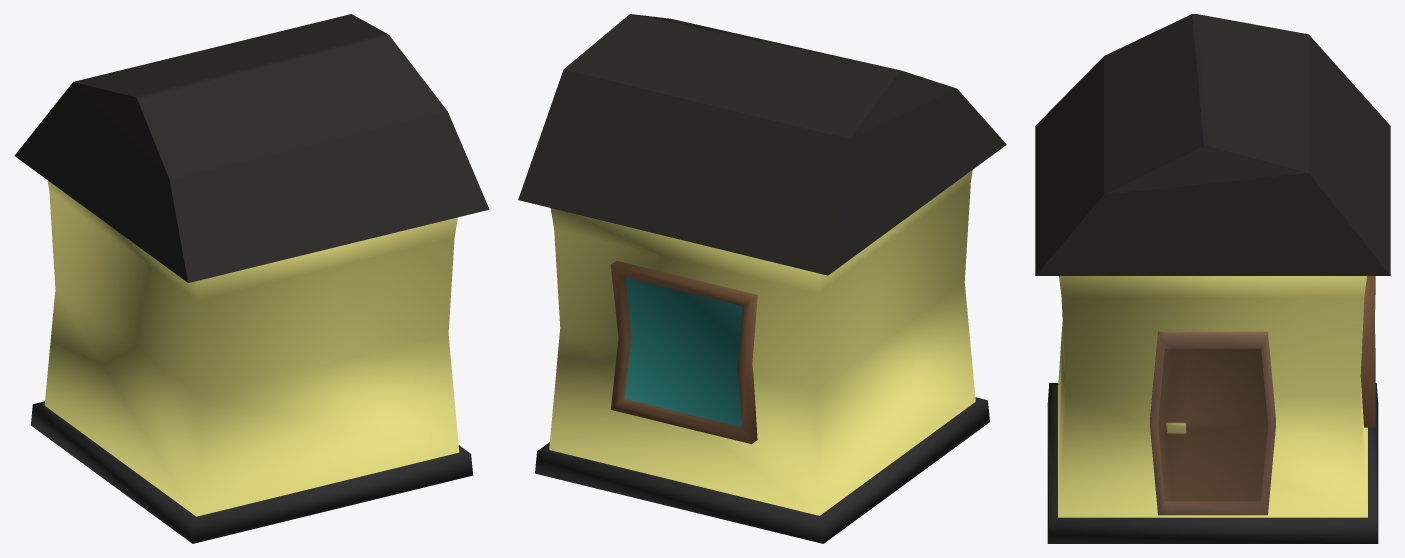
The model's file is YellowHouse.fbx.
The picture shows the model from 3 angles, left to right: view 1: azimuth 30°, elevation 25°; view 2: azimuth 150°, elevation 25°; view 3: azimuth 270°, elevation 25°; orthographic projection. The views are drawn at different scales.
Parts seen in each view (by area): view 1: Cube, Cube.001; view 2: Cube, Cube.001, Cube.002; view 3: Cube.001, Cube, Cube.003, Cube.002.
Boxes of the visible parts, x1,y1,x2,y2 form: Cube: (31,180,473,543); Cube.001: (14,14,489,282); Cube: (535,170,989,543); Cube.001: (518,14,1006,275); Cube.002: (610,260,757,444); Cube.001: (1035,14,1390,275); Cube: (1047,276,1378,543); Cube.003: (1150,331,1275,515); Cube.002: (1360,276,1375,427).
Size of the model in its own units: 646 by 799 by 646.
